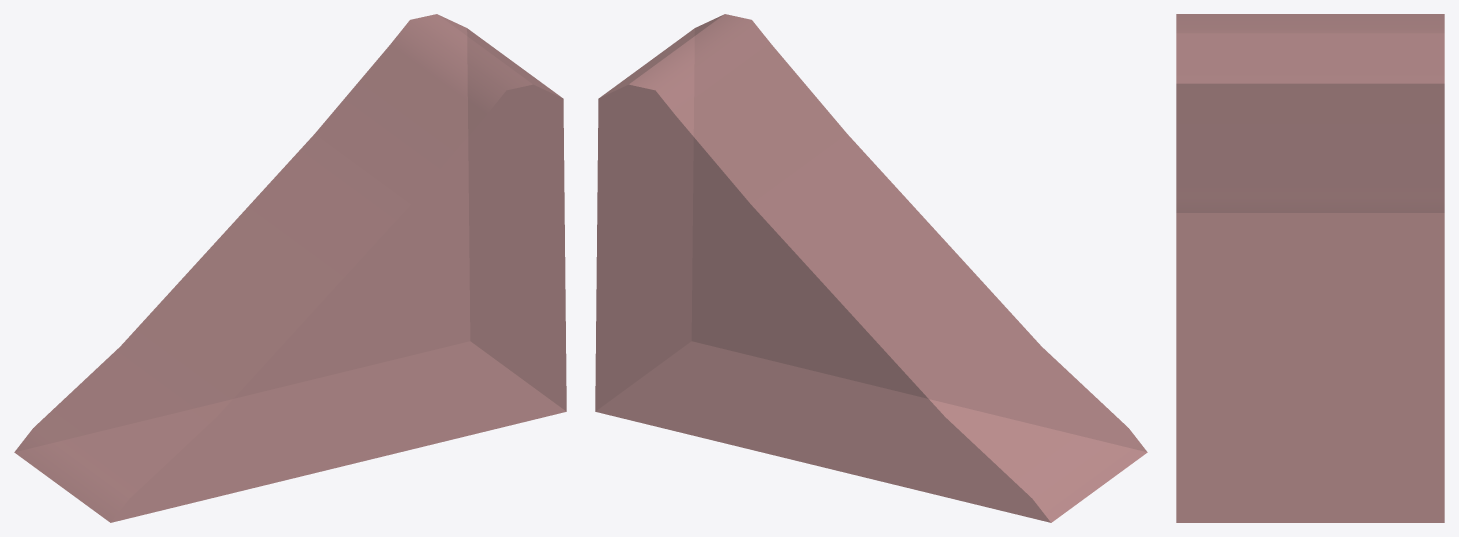
The model's file is StairsNarrow01_COL.fbx.
The picture shows the model from 3 angles, left to right: view 1: azimuth 30°, elevation 25°; view 2: azimuth 150°, elevation 25°; view 3: azimuth 270°, elevation 25°; orthographic projection. The views are drawn at different scales.
Parts seen in each view (by area): view 1: StairsNarrow01_COL; view 2: StairsNarrow01_COL; view 3: StairsNarrow01_COL.
Boxes of the visible parts, left/top/right/bottom form: StairsNarrow01_COL: left=14, top=14, right=566, bottom=522; StairsNarrow01_COL: left=595, top=14, right=1147, bottom=522; StairsNarrow01_COL: left=1176, top=14, right=1444, bottom=522.
Size of the model in its own units: 603 by 424 by 221.
